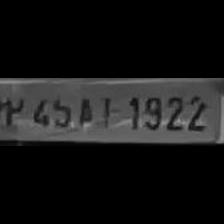1: (120, 91, 140, 131)
2: (183, 91, 207, 131), (162, 91, 182, 131)
4: (27, 93, 51, 127)
5: (48, 93, 72, 129)
9: (140, 91, 162, 131)
P: (0, 93, 26, 129)
